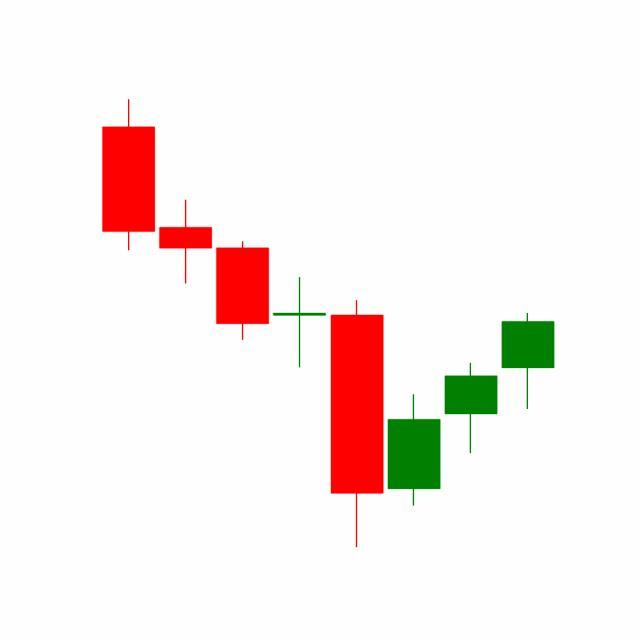Hikkake Pattern: (214, 238, 501, 549)
